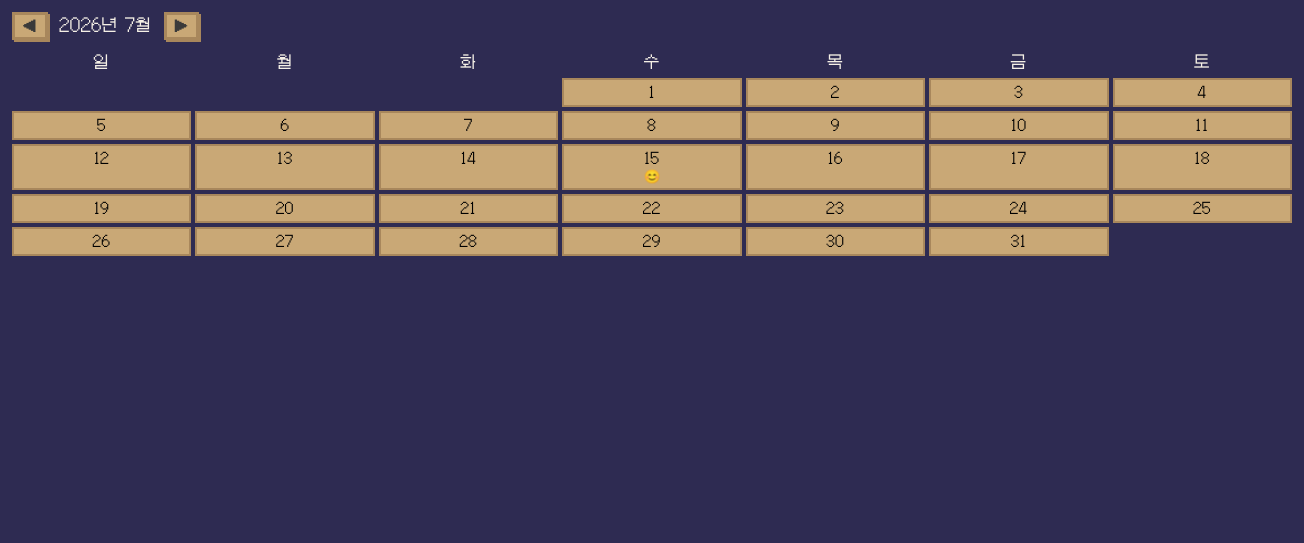
Test: HistoryPage › shows the day detail card when a logged day is selected
Click the button "15 😊" at (652, 167), box [562, 144, 742, 190]
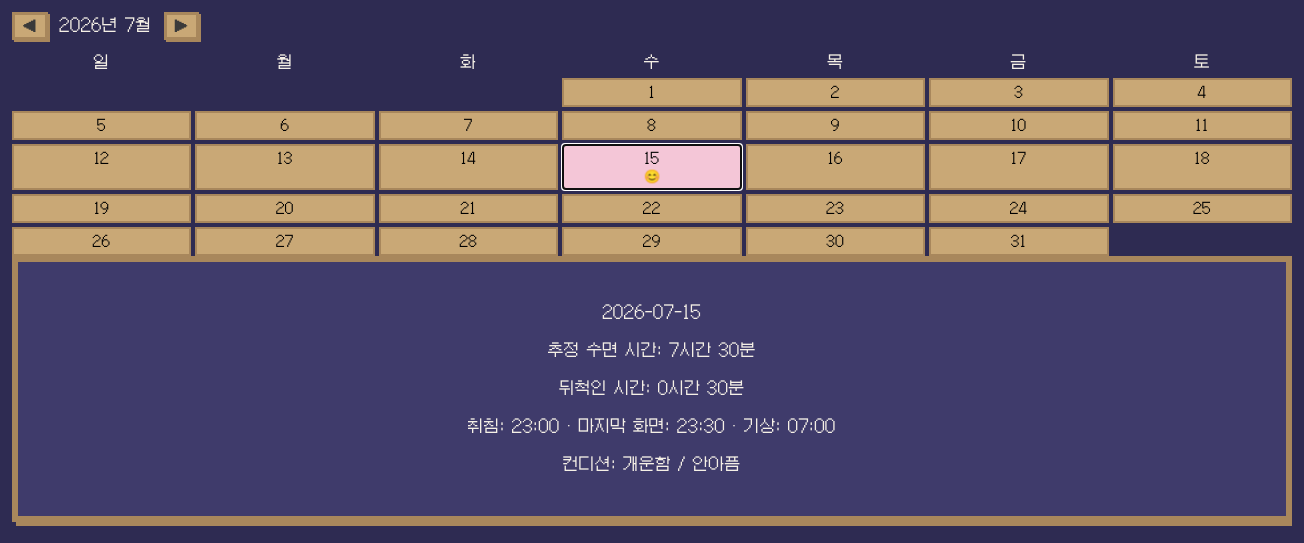
Result: the text "2026-07-15" is shown at [603, 303, 701, 322]
